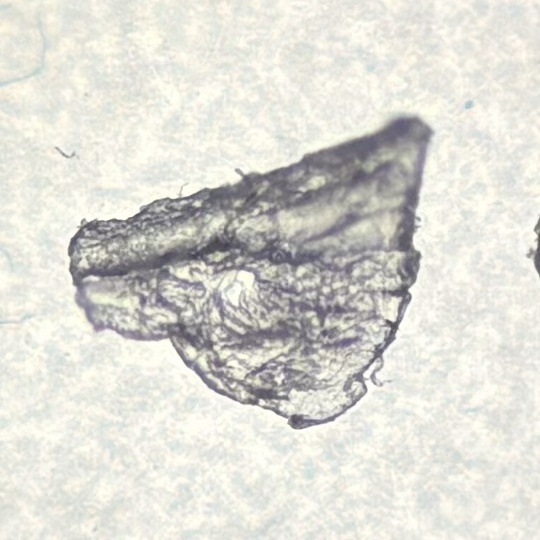microplastic: (70, 115, 432, 428), (526, 213, 540, 278)
